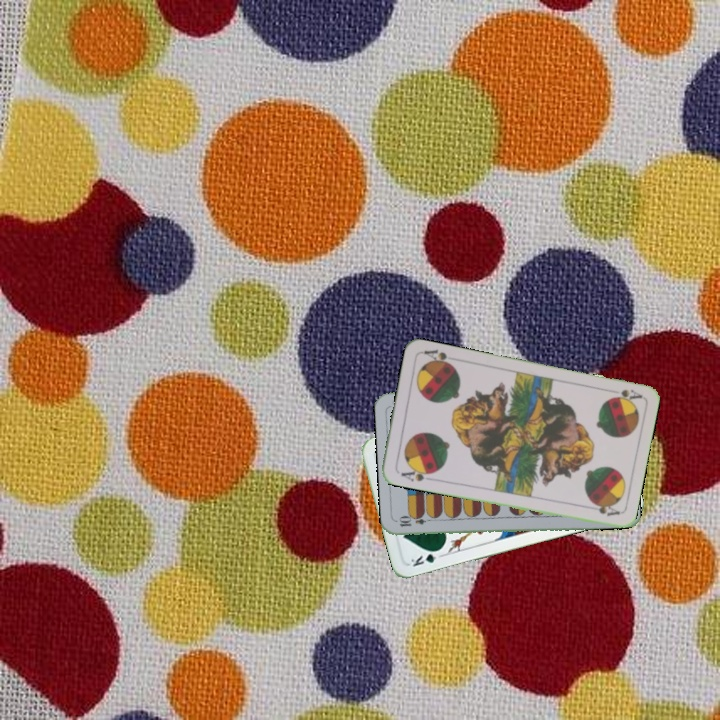E10: (395, 514, 436, 529)
GK: (407, 545, 446, 569)
SA: (397, 463, 436, 484), (606, 385, 644, 405)
